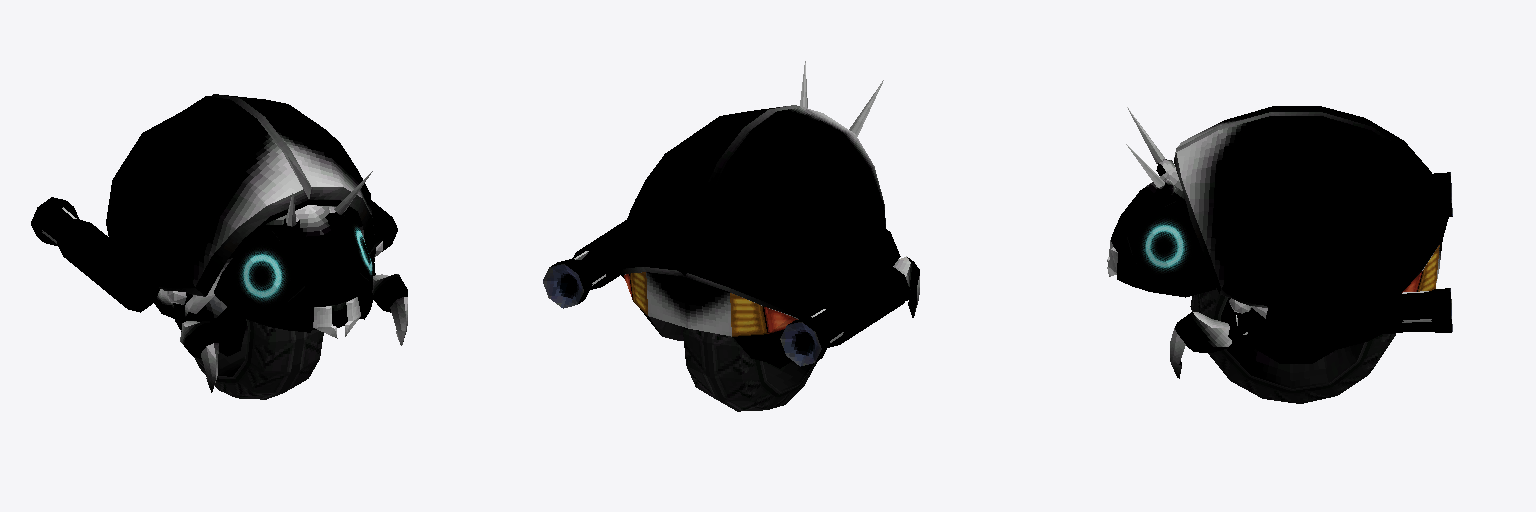
3 renders of one model, left to right at view 1: azimuth 30°, elevation 25°; view 2: azimuth 150°, elevation 25°; view 3: azimuth 270°, elevation 25°, orthographic.
Visible parts, largest first — view 1: polygon0, polygon1, polygon3, polygon2; view 2: polygon0, polygon3, polygon1, polygon4; view 3: polygon0, polygon1, polygon3, polygon2, polygon4.
Boxes of the visible parts, x1=… form: polygon0: x1=106, y1=94, x2=407, y2=358; polygon1: x1=31, y1=197, x2=407, y2=392; polygon3: x1=194, y1=319, x2=323, y2=399; polygon2: x1=226, y1=214, x2=372, y2=314; polygon0: x1=618, y1=61, x2=919, y2=368; polygon3: x1=543, y1=264, x2=821, y2=411; polygon1: x1=551, y1=220, x2=919, y2=391; polygon4: x1=624, y1=272, x2=797, y2=336; polygon0: x1=1111, y1=106, x2=1449, y2=363; polygon1: x1=1107, y1=172, x2=1452, y2=388; polygon3: x1=1190, y1=172, x2=1452, y2=403; polygon2: x1=1126, y1=201, x2=1200, y2=276; polygon4: x1=1402, y1=245, x2=1439, y2=292.
Size of the model in its own units: 20.65 by 20.08 by 22.12.
5 materials, 4 textured.